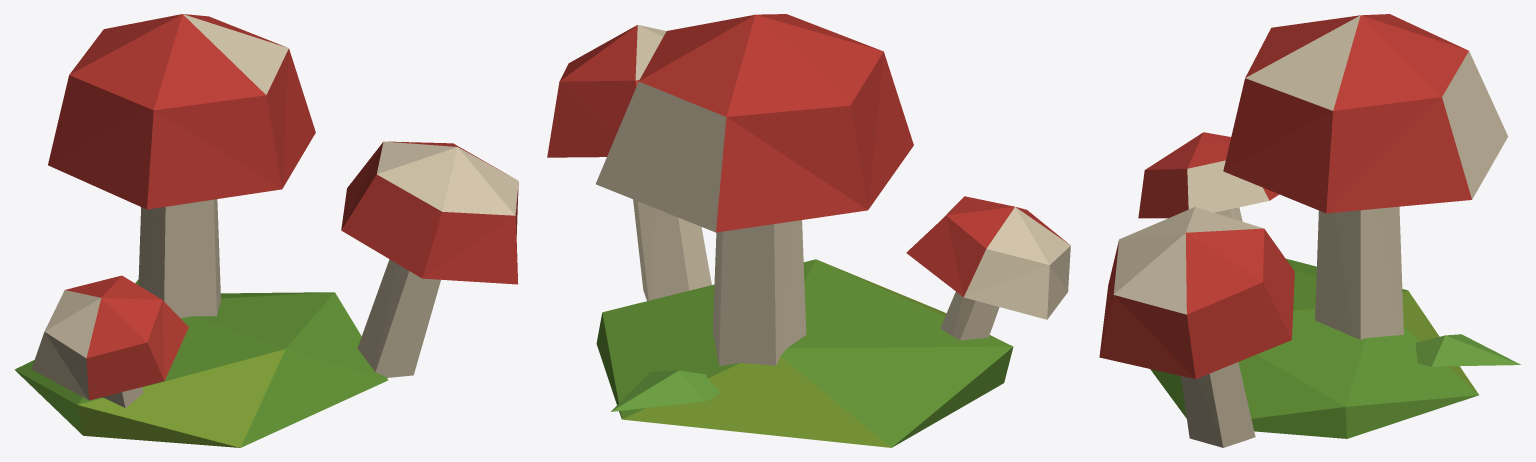
The model's file is mushroom_cluster.glb.
The picture shows the model from 3 angles, left to right: view 1: azimuth 30°, elevation 25°; view 2: azimuth 150°, elevation 25°; view 3: azimuth 270°, elevation 25°; orthographic projection. The views are drawn at different scales.
Visible parts, largest first — view 1: mushroom_cluster; view 2: mushroom_cluster; view 3: mushroom_cluster.
Part boxes in pixels (x1,y1,x2,y2): mushroom_cluster: (14,14,518,447); mushroom_cluster: (547,14,1070,447); mushroom_cluster: (1099,14,1520,447).
Bounding box in the file's own units: 0.4007 × 0.28 × 0.3075.
